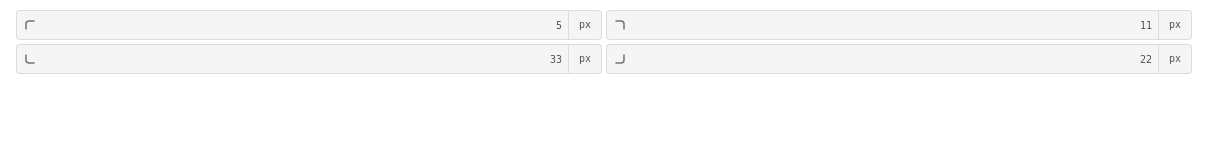
CornerRadiusEditor CornerCell (behavioral) › starts with no input; clicking a value span enters edit mode
Click the text "5".
click(559, 25)  # box [556,20,562,30]
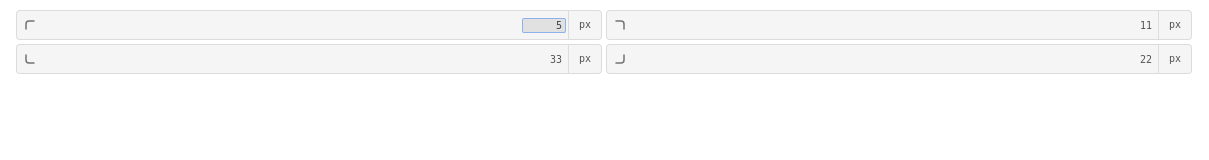
Now the field named "Top-left radius" is shown, box [522,18,566,32]
